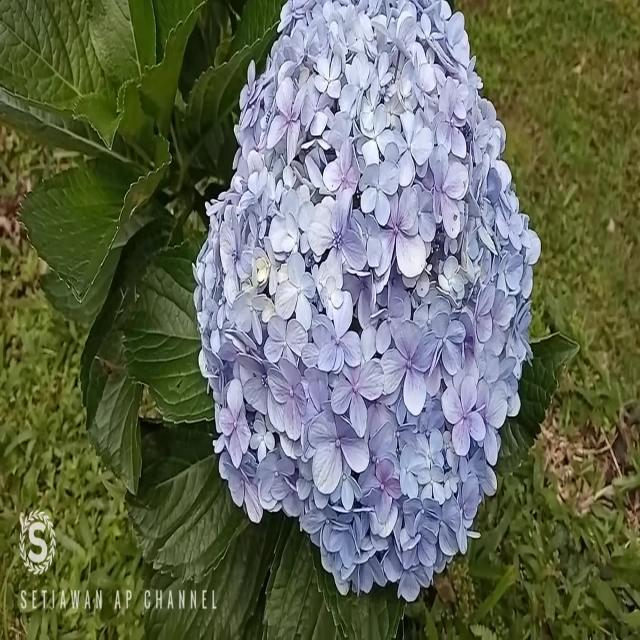Flower: (190, 5, 540, 610)
